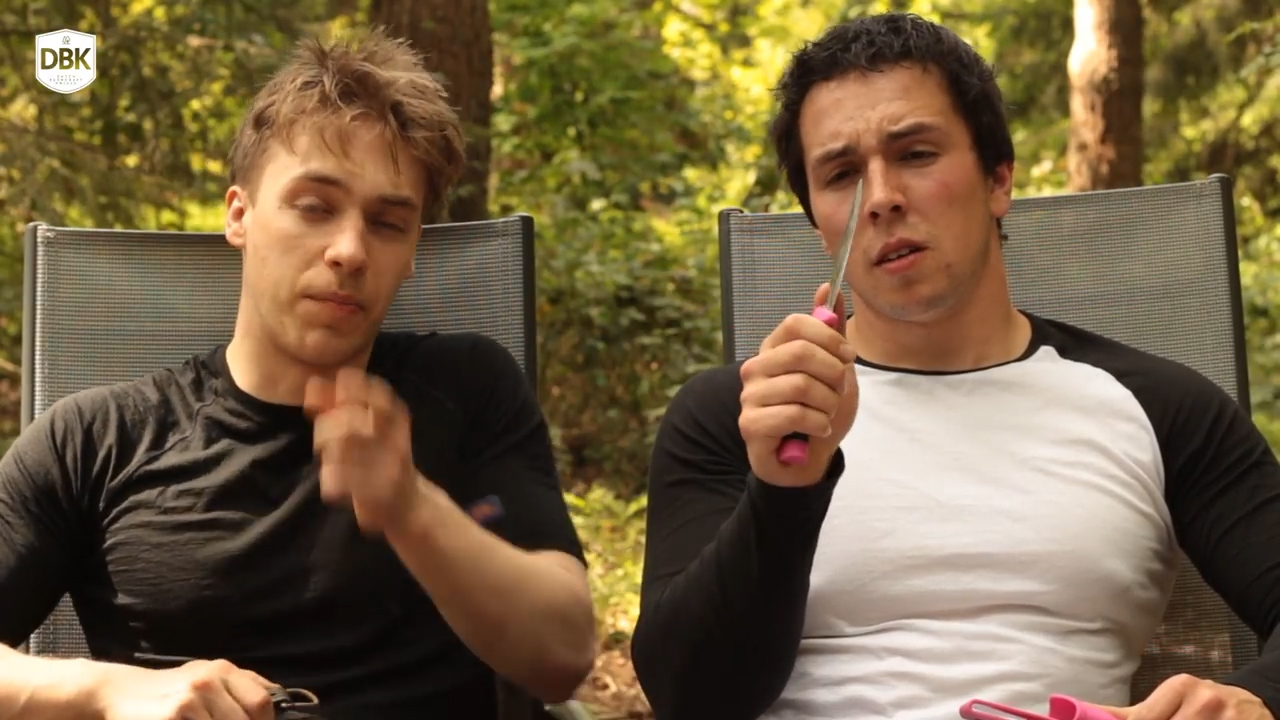knife: (745, 161, 878, 426)
